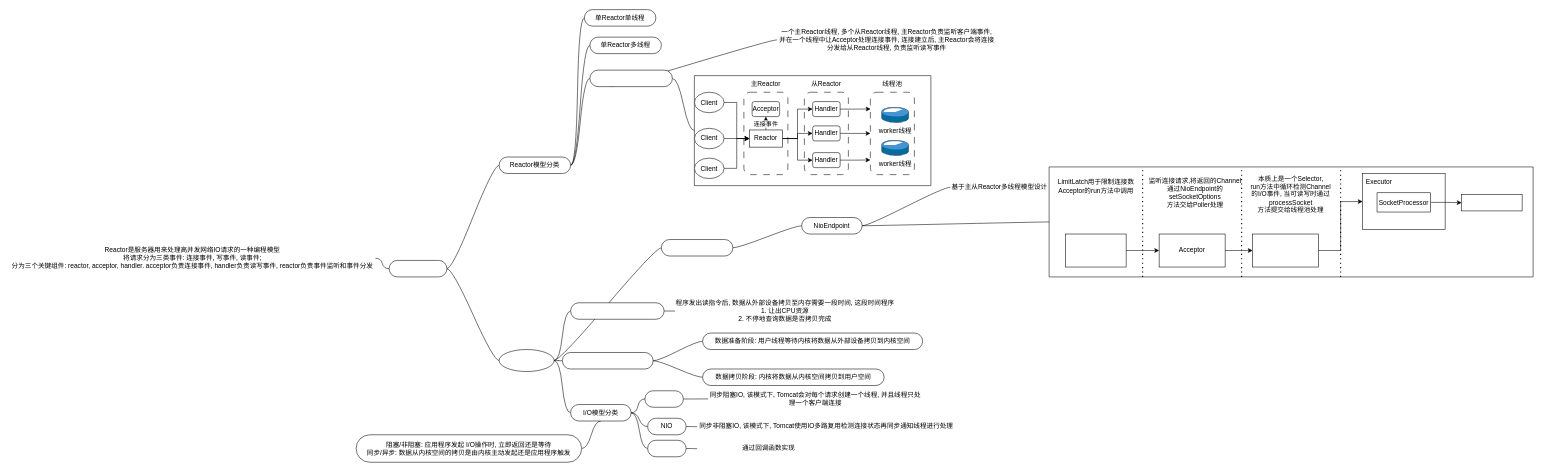
Image size: 1543x472. Some labels were removed from this diagram. The centre of each missing label's shape, as x and y in pixels:
"AIO" belongs at (666,448).
"BIO" belongs at (663,398).
"Http11Processor" belongs at (1491,202).
"I/O分为两个步骤" belongs at (607,360).
"I/O模型要解决什么问题" belongs at (617,310).
"LimitLatch" belongs at (1095,250).
"Poller" belongs at (1285,250).
"Reactor模型" belongs at (418,268).
"Tomcat I/O模型" belongs at (526,360).
"Tomcat NIO实现" belongs at (697,247).
"主从Reactor多线程" belongs at (630,78).
